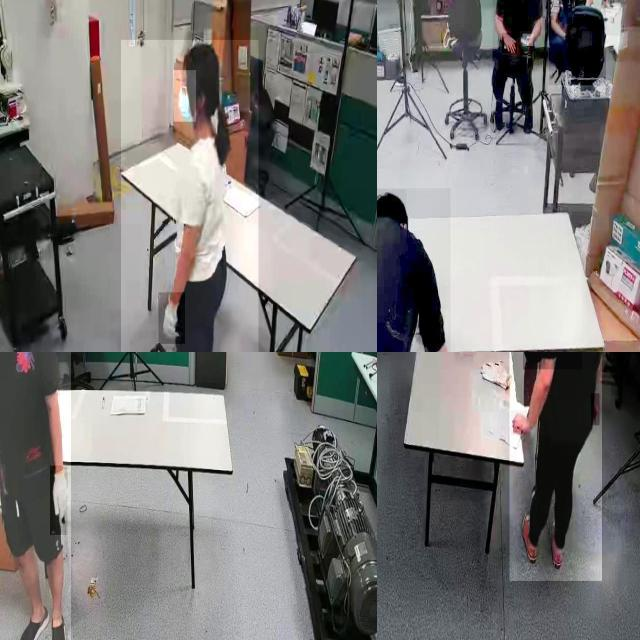face_mask: (174, 70, 196, 122)
hand_glove: (158, 292, 186, 345), (50, 466, 68, 536), (0, 463, 6, 515)
hand_noglove: (511, 410, 531, 436), (502, 33, 518, 54), (591, 394, 600, 426), (522, 34, 534, 47)
head_nohelmet: (184, 43, 220, 69), (377, 189, 407, 215)
person: (121, 40, 259, 352), (509, 352, 602, 582), (0, 352, 71, 640), (377, 188, 451, 352), (492, 0, 548, 134), (548, 0, 606, 86)
shoes: (18, 593, 52, 640), (548, 516, 566, 571), (519, 510, 538, 562), (518, 100, 536, 140), (46, 606, 66, 640), (493, 96, 507, 134)
